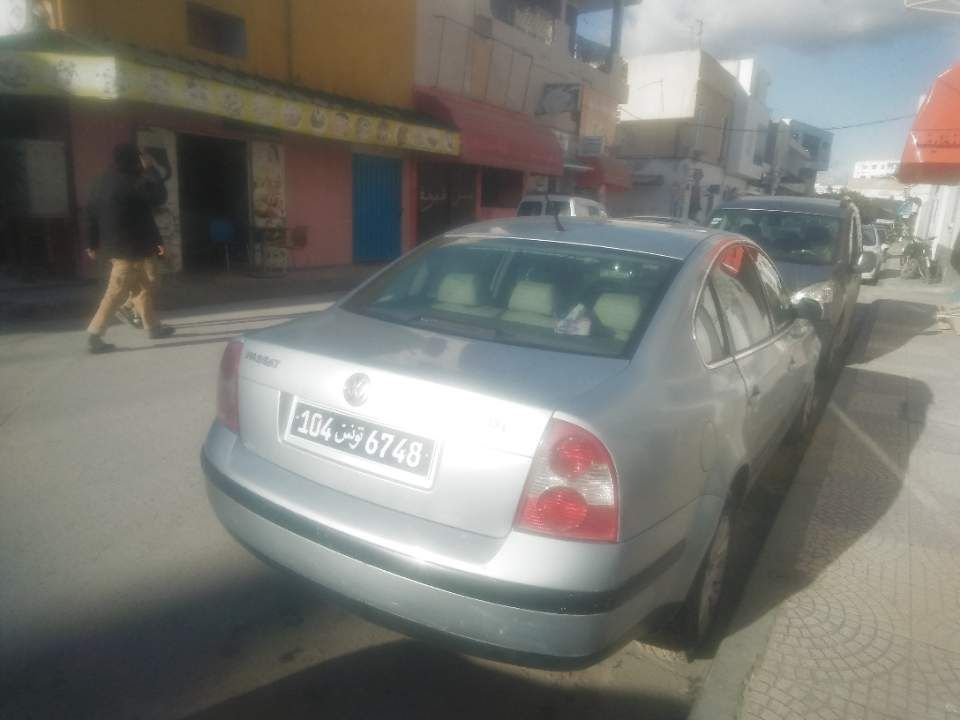LP: (289, 400, 435, 473)
